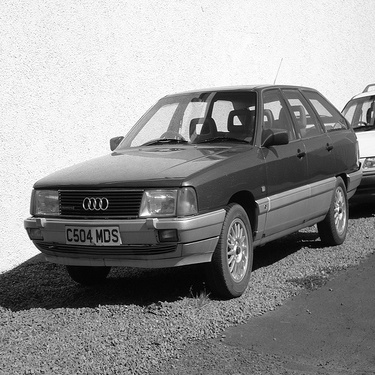car: (17, 73, 365, 298), (321, 77, 373, 210)
